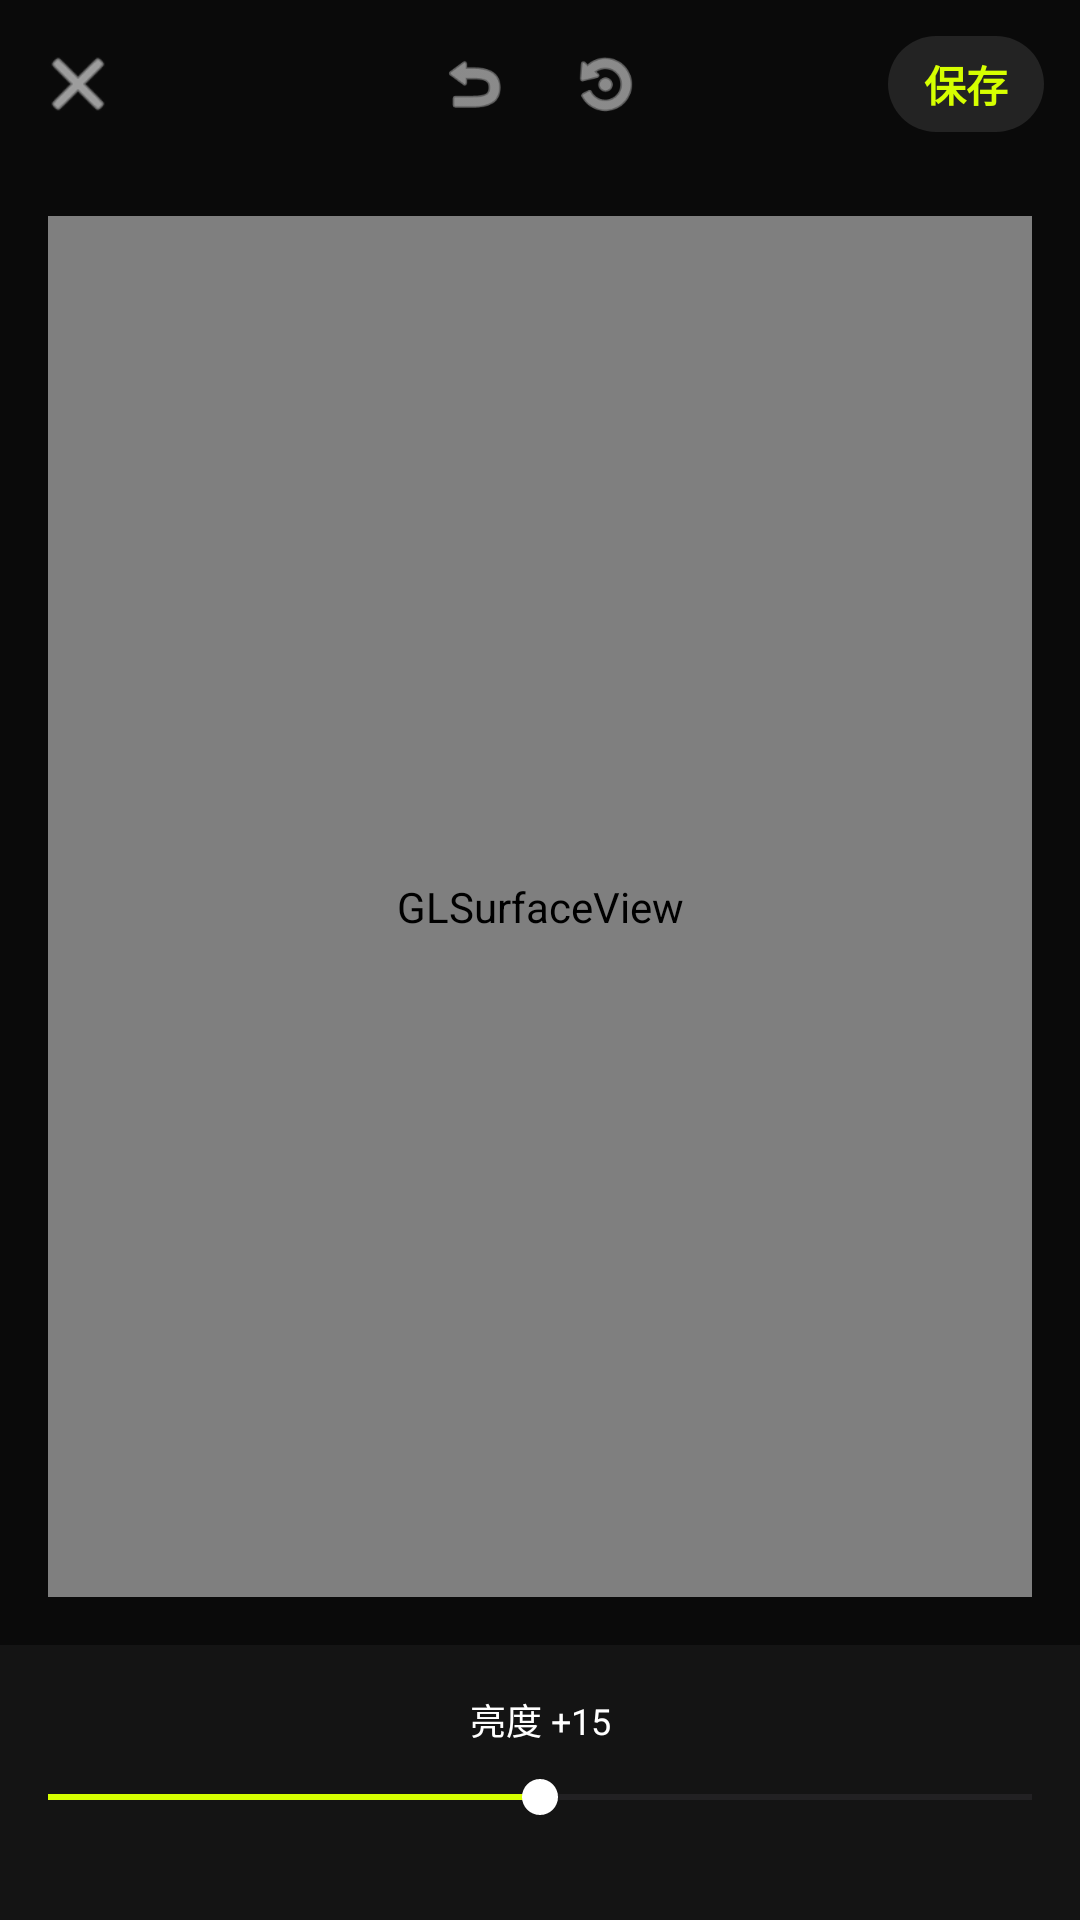

Screen size 1080w x 1920h. Icon name, then its box in pixels as bbox=(x1, y1, x2, y2):
close clear cancel: bbox=(52, 58, 104, 110)
